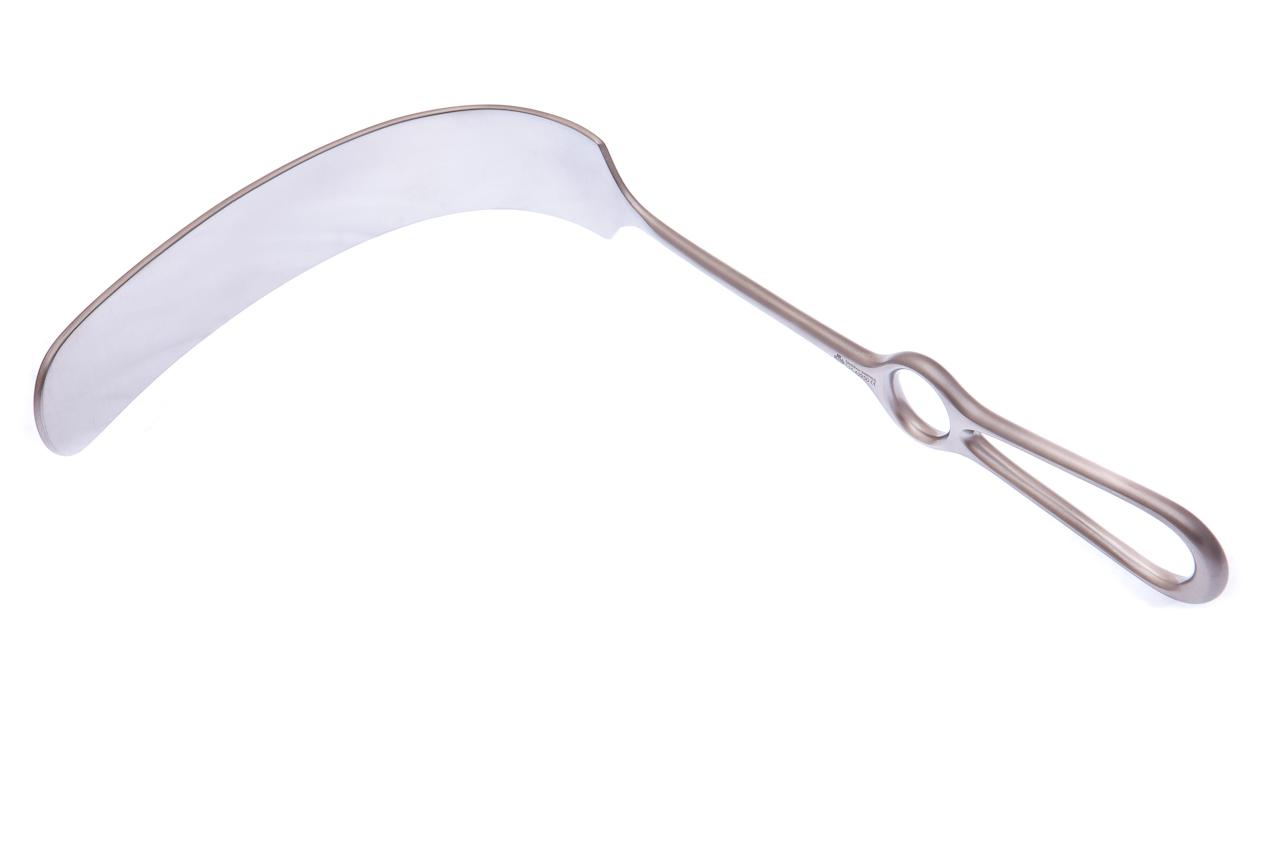Kelly Retractor: (30, 93, 1238, 621)
